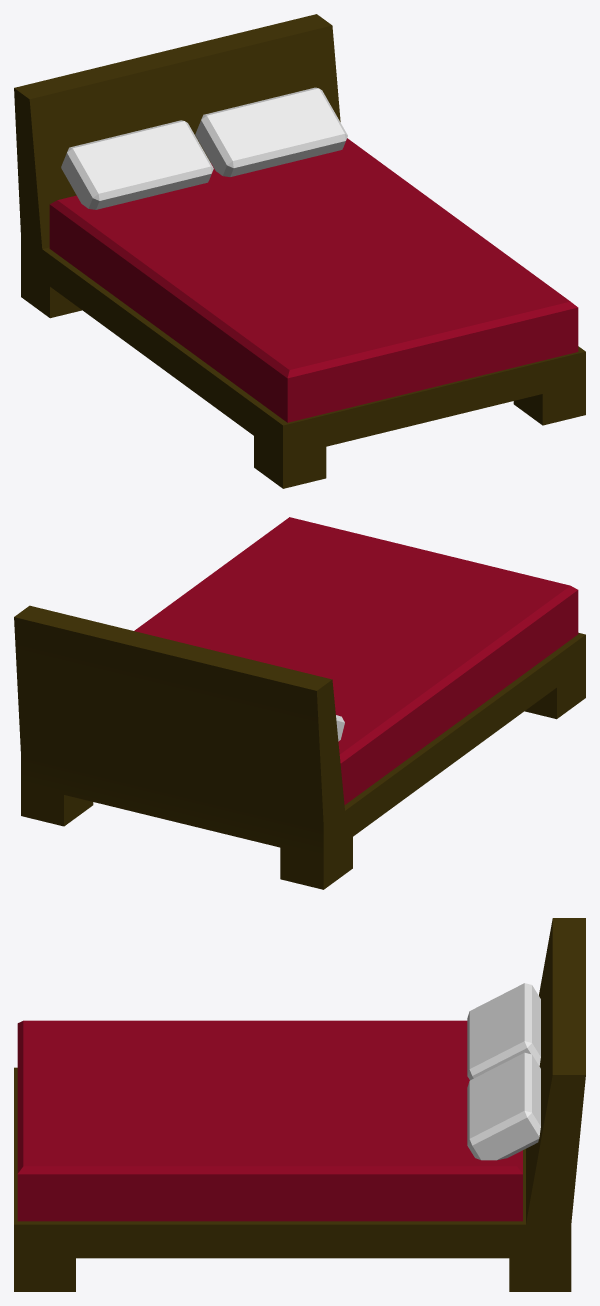
File: Bed.fbx
The picture shows the model from 3 angles, top to bottom: view 1: azimuth 30°, elevation 25°; view 2: azimuth 150°, elevation 25°; view 3: azimuth 270°, elevation 25°; orthographic projection. The views are drawn at different scales.
Visible parts, largest first — view 1: pCube5; view 2: pCube5; view 3: pCube5.
Boxes of the visible parts, x1,y1,x2,y2 form: pCube5: (14, 14, 585, 488); pCube5: (14, 517, 585, 889); pCube5: (14, 918, 585, 1291).
Bounding box in the file's own units: 6.68 × 4.3 × 10.28.
